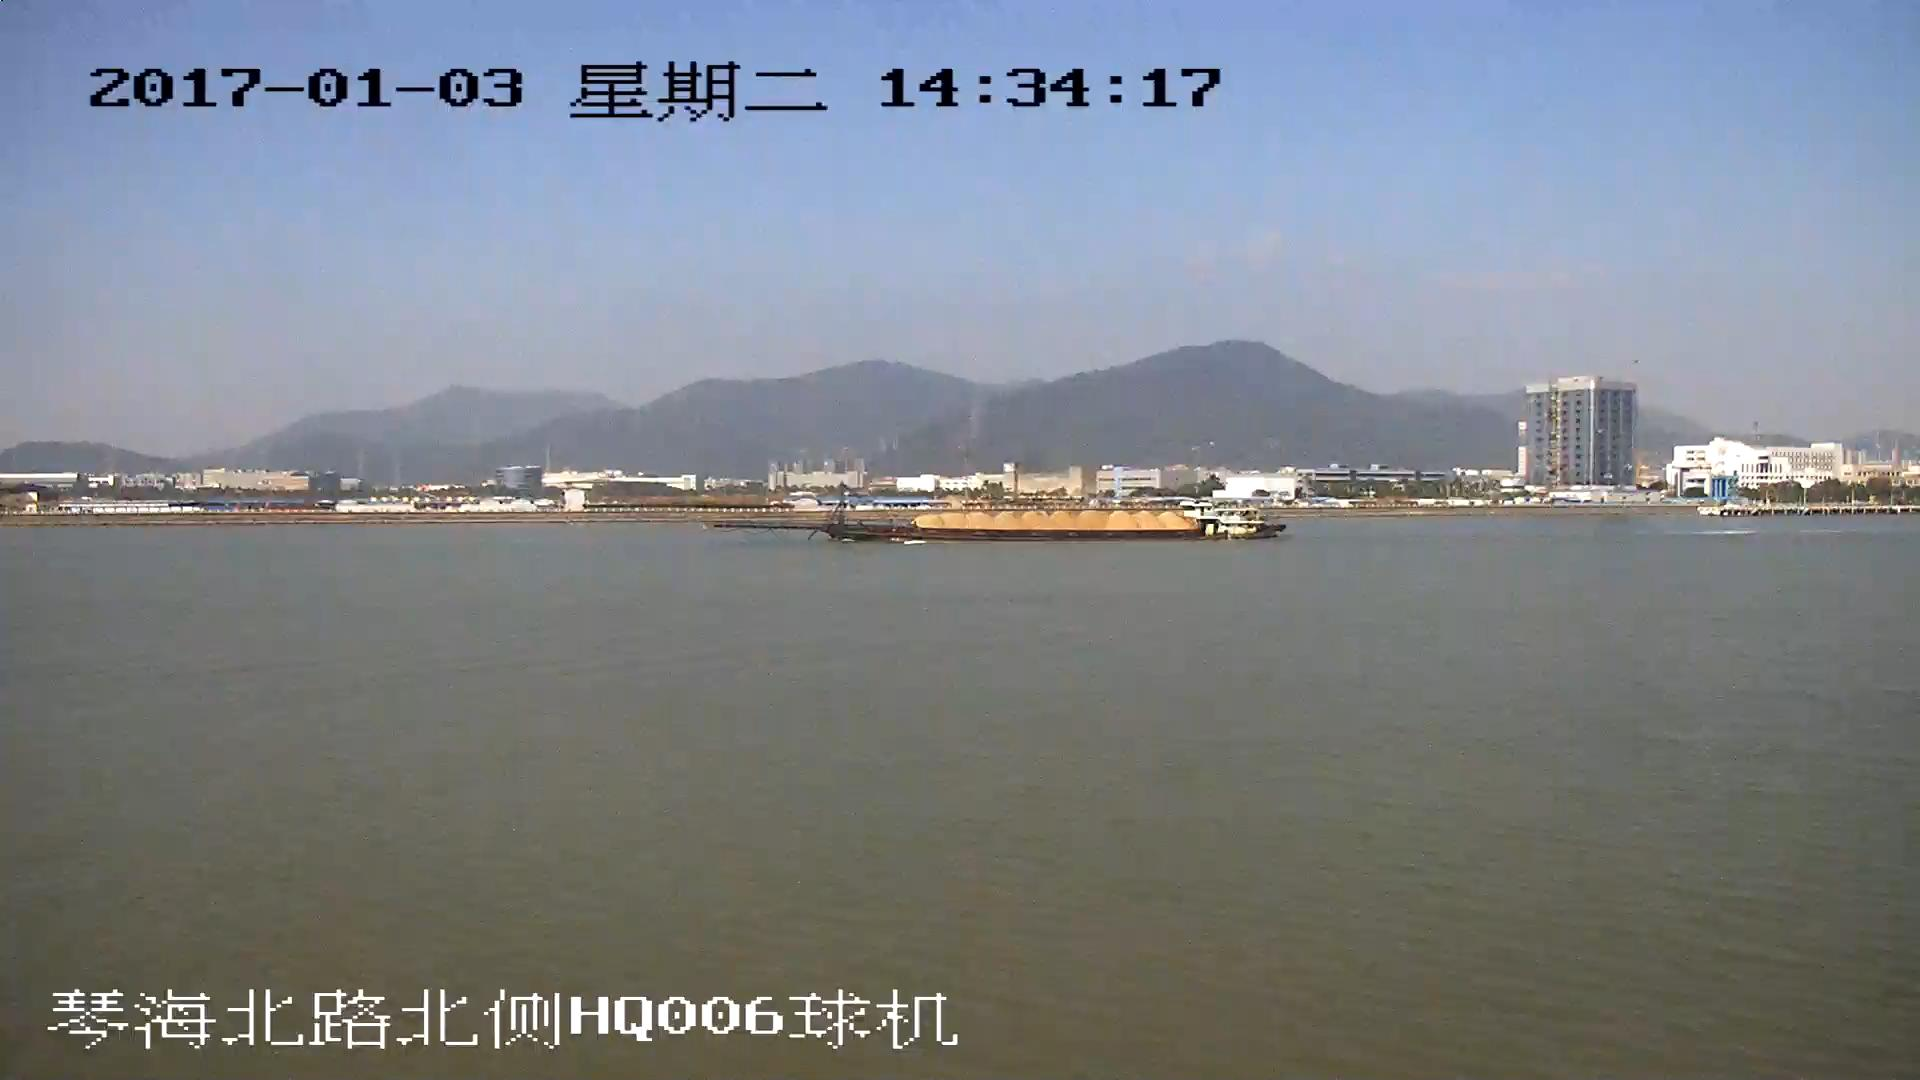ore carrier: (715, 494, 1285, 540)
